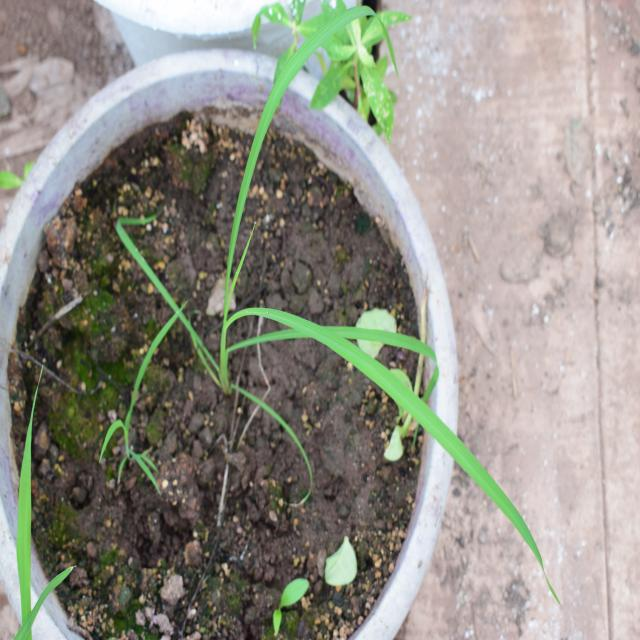barnyard_grass: (147, 33, 533, 564)
